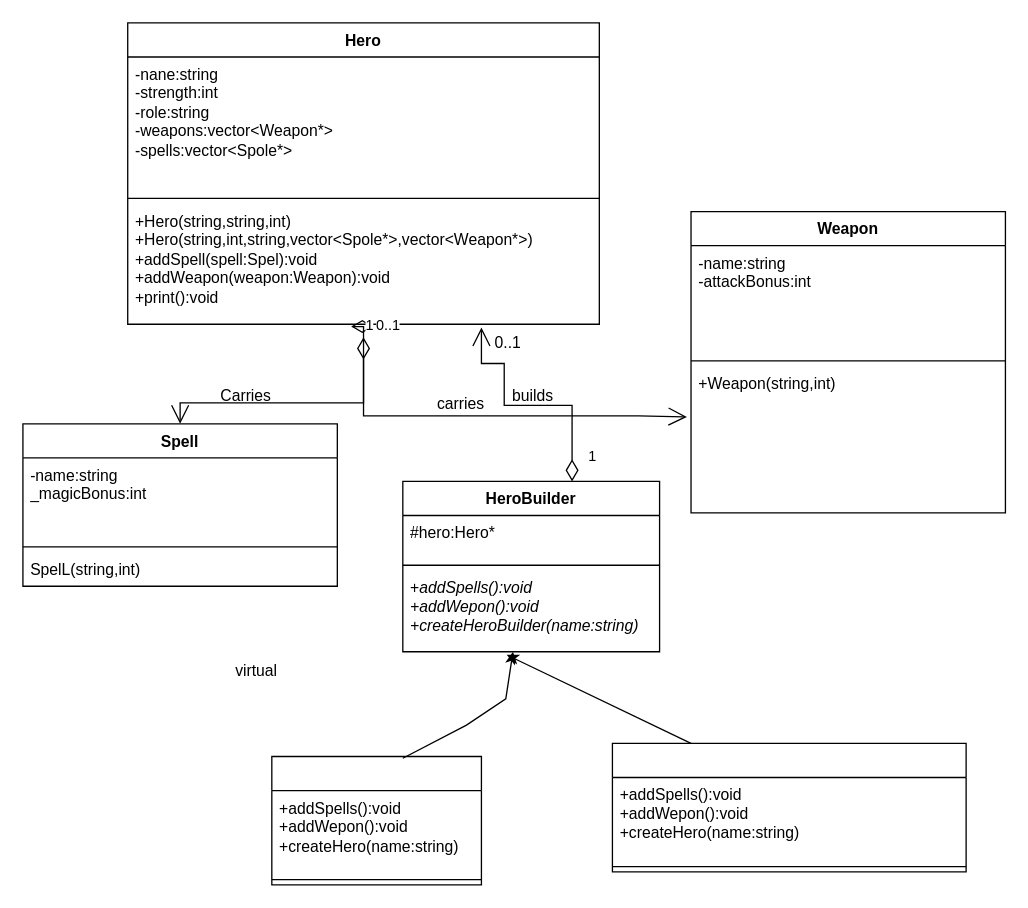
The diagram is 1028 pixels wide and 908 high, and some of its shapes have lost their labels. Each missing label, with the box of its shape:
MageBuilder: (271, 755, 481, 885)
WarroirBuilder: (611, 742, 966, 872)
